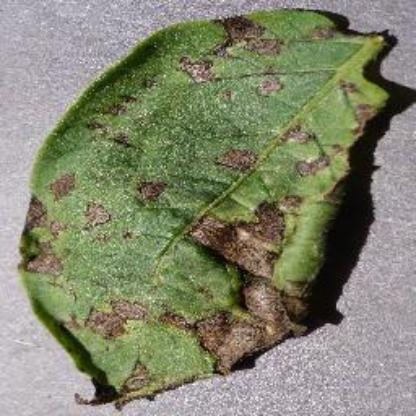Early-Blight: (20, 6, 396, 408)
